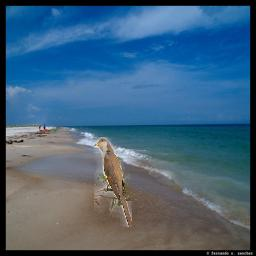Cuckoo: (94, 137, 132, 227)
